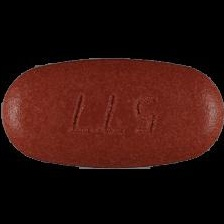0006-0577: (0, 0, 224, 224)
